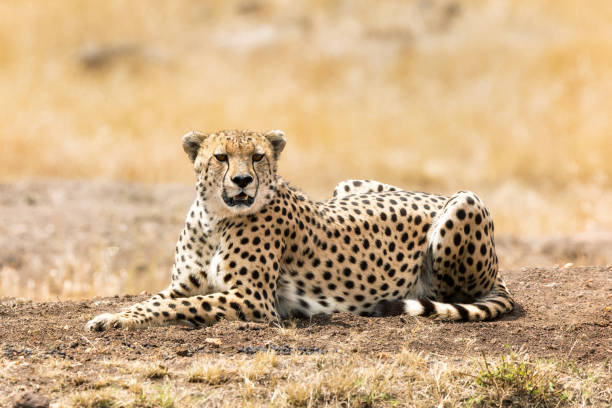cheetah: (166, 118, 302, 224)
